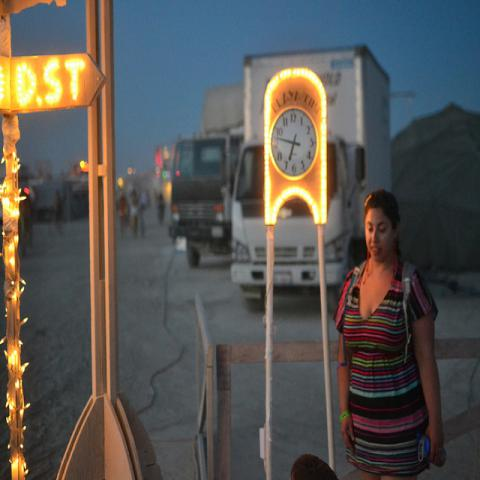truck: (231, 46, 395, 300), (172, 90, 243, 267)
